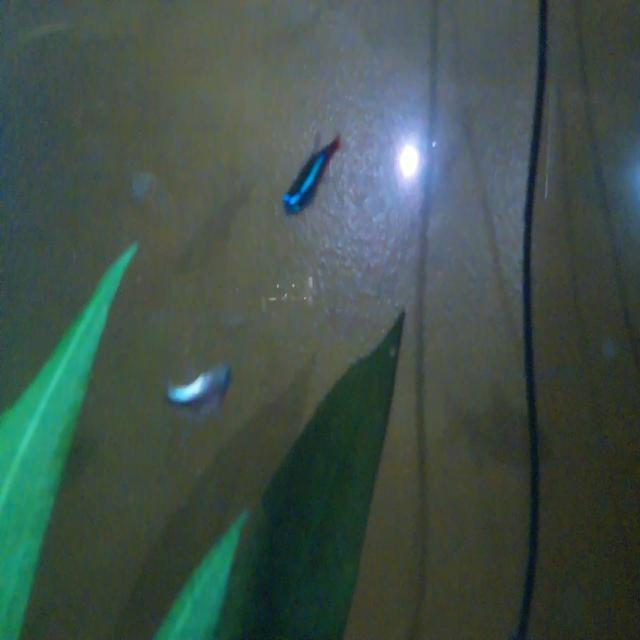fish: (274, 126, 349, 227), (158, 355, 242, 426)
